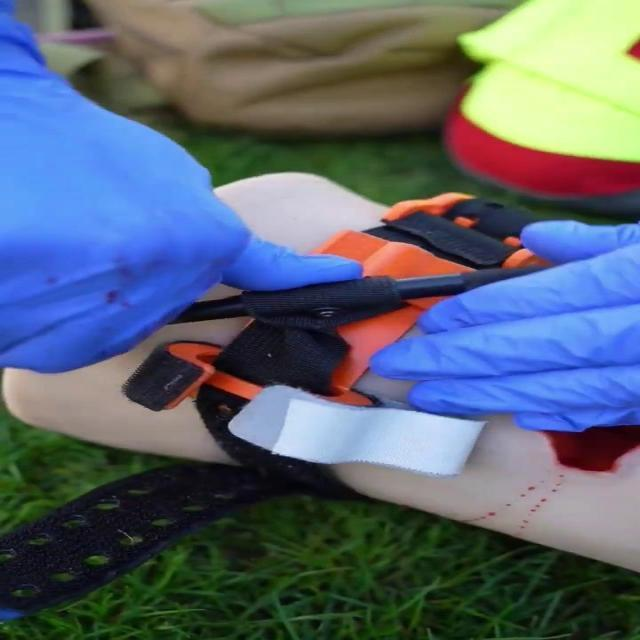flood: (545, 427, 640, 473)
